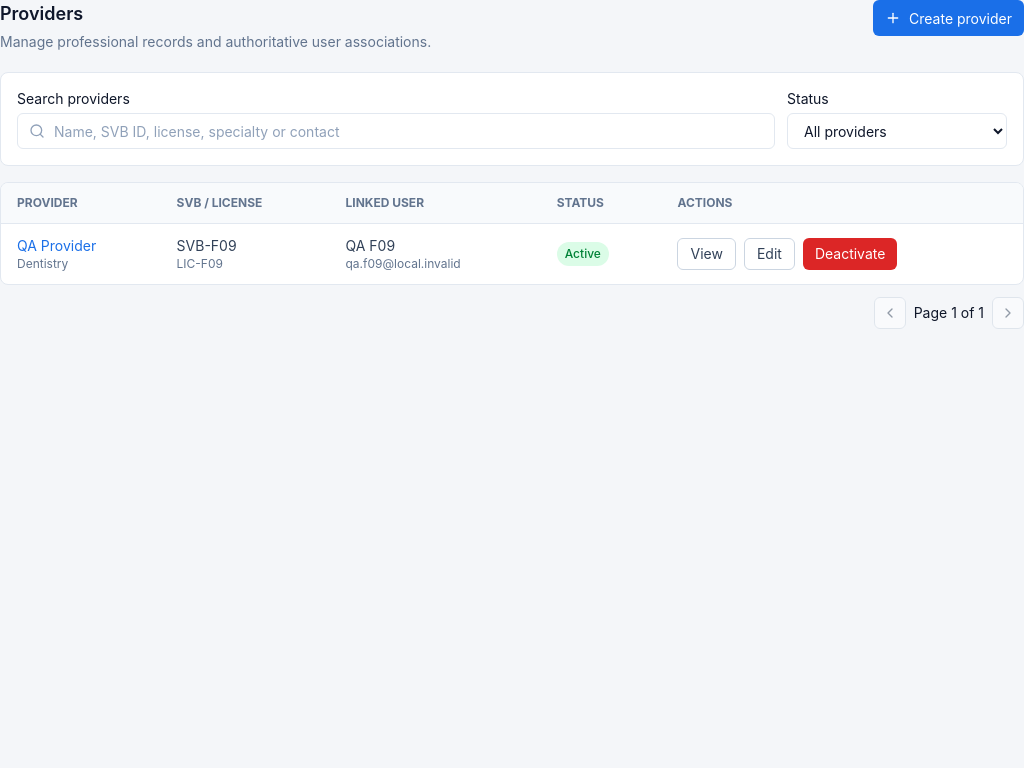
Test: F09 administration UI › loads provider detail and string ID
Click the button "View" at [707, 254], box [678, 238, 736, 270]
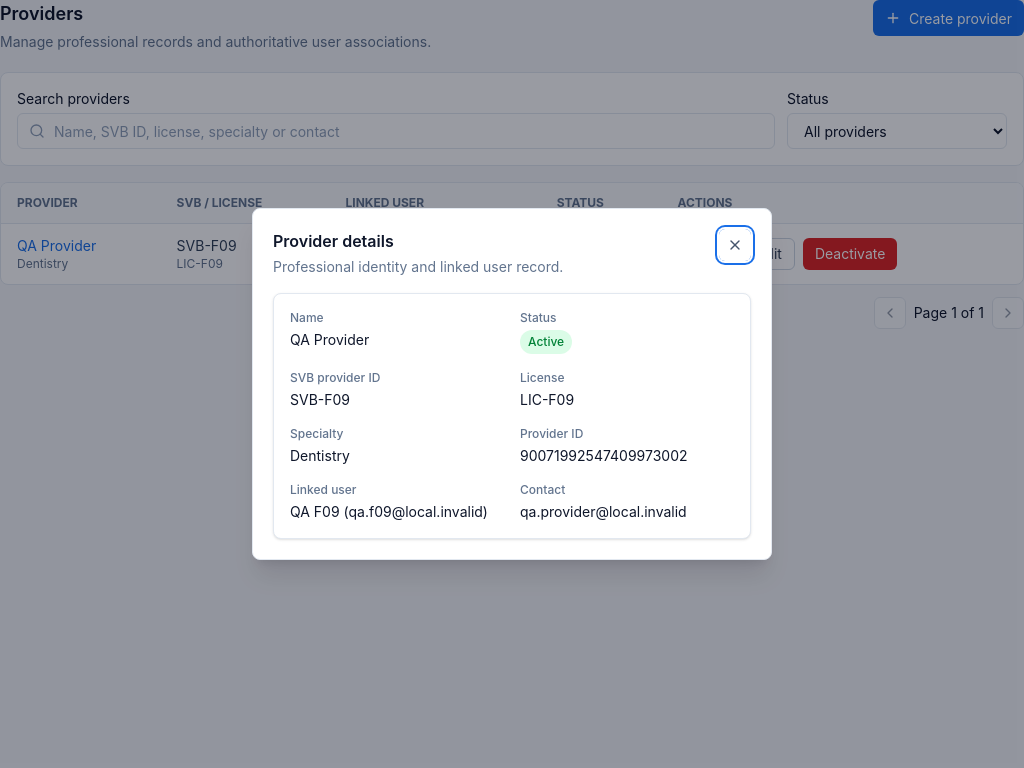
Result: the heading "Provider details" is shown at [273, 231, 394, 251]
Result: the text "90071992547409973002" is shown at [520, 447, 688, 464]
